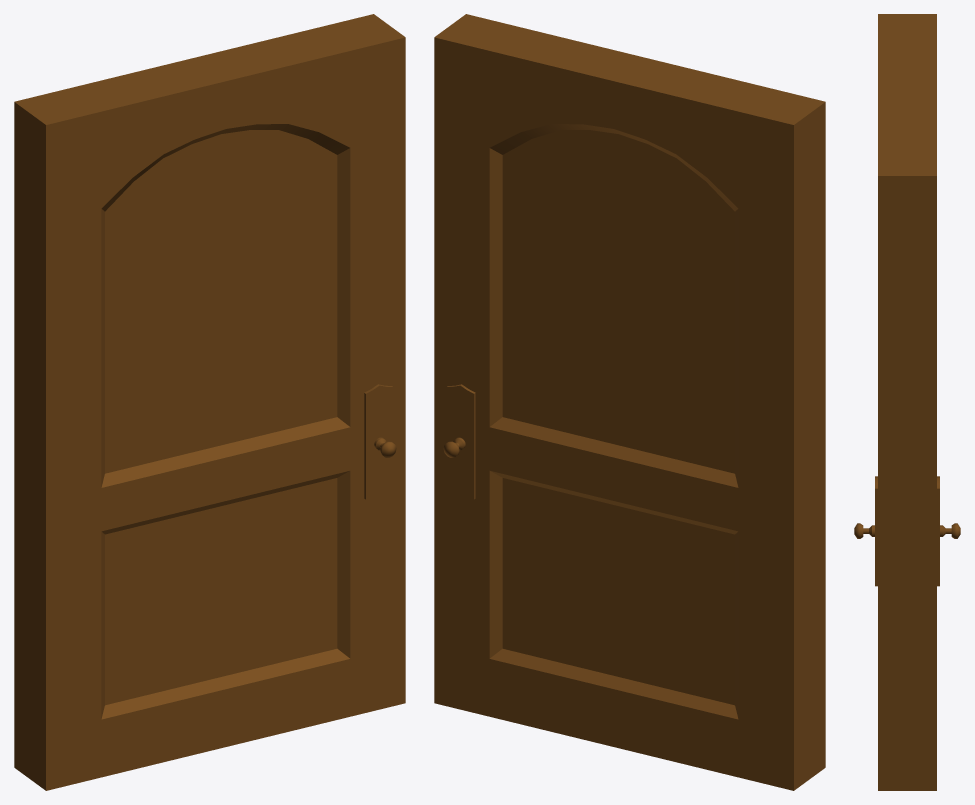
The model's file is SM_SaloonDoor.fbx.
3 views of the same model, side by side, from view 1: azimuth 30°, elevation 25°; view 2: azimuth 150°, elevation 25°; view 3: azimuth 270°, elevation 25° (orthographic). The views are drawn at different scales.
Parts seen in each view (by area): view 1: SM_SaloonDoor_LowPoly (×2); view 2: SM_SaloonDoor_LowPoly (×2); view 3: SM_SaloonDoor_LowPoly (×2).
Boxes of the visible parts, x1,y1,x2,y2 form: SM_SaloonDoor_LowPoly (×2): [14, 14, 405, 790]; SM_SaloonDoor_LowPoly (×2): [434, 14, 825, 790]; SM_SaloonDoor_LowPoly (×2): [854, 14, 960, 790].
Size of the model in its own units: 130 by 230 by 36.
